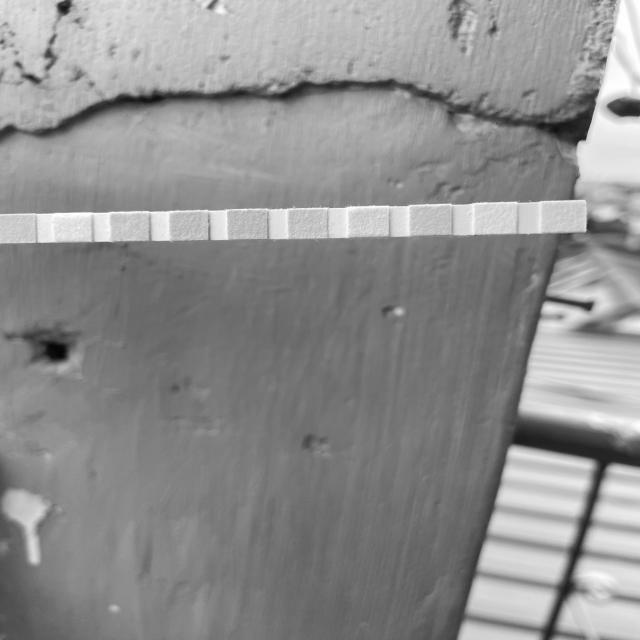Bilirubin: (54, 215, 92, 241)
Blood: (229, 212, 266, 238)
Glucose: (0, 214, 35, 243)
Ketone: (111, 214, 149, 241)
Leukocytes: (543, 203, 585, 232)
Nitrite: (475, 204, 516, 233)
Protein: (350, 209, 388, 236)
SpGravity: (170, 213, 208, 239)
Urobilinogen: (411, 206, 450, 235)
background: (0, 0, 640, 640)
pH: (289, 209, 327, 237)
strip: (0, 200, 586, 244)
